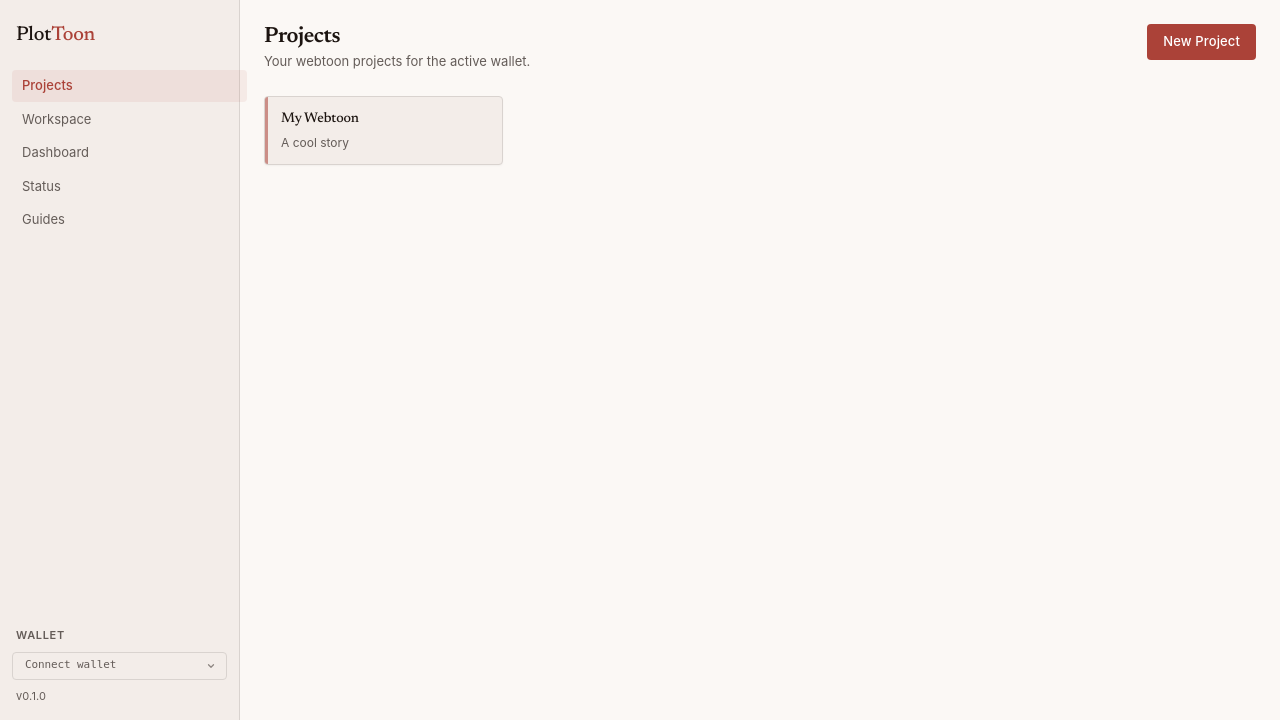
Scenario: App › navigates to workspace with layout panels when clicking a project card
Click the text "My Webtoon" at {"x": 320, "y": 119}, box [281, 112, 359, 126]
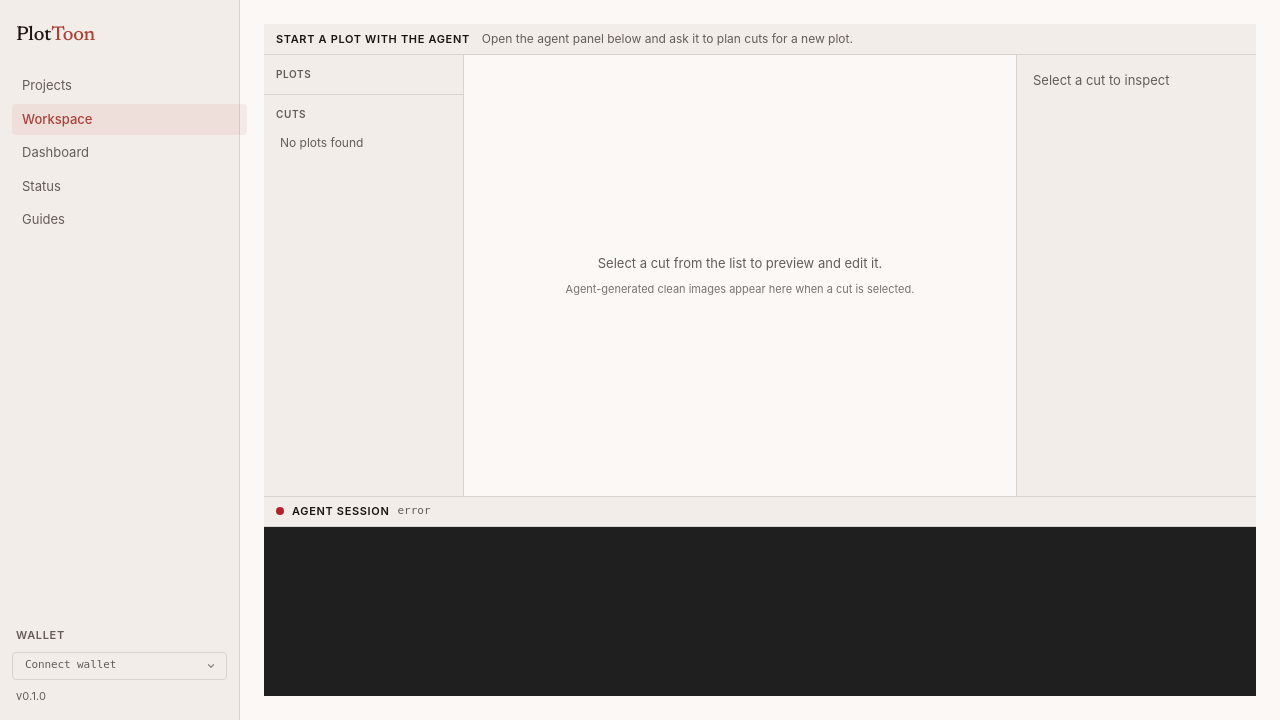
Expected: the element with test id "cut-list-panel" is shown, [264, 55, 464, 496]
Expected: the element with test id "preview-panel" is shown, [464, 55, 1016, 496]
Expected: the element with test id "inspector-panel" is shown, [1016, 55, 1256, 496]
